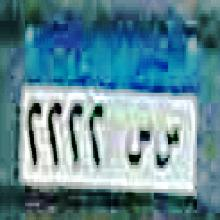2: (65, 98, 88, 168), (27, 96, 45, 170), (90, 97, 107, 171), (47, 99, 64, 168)
seen: (153, 116, 182, 169), (125, 119, 152, 170)
